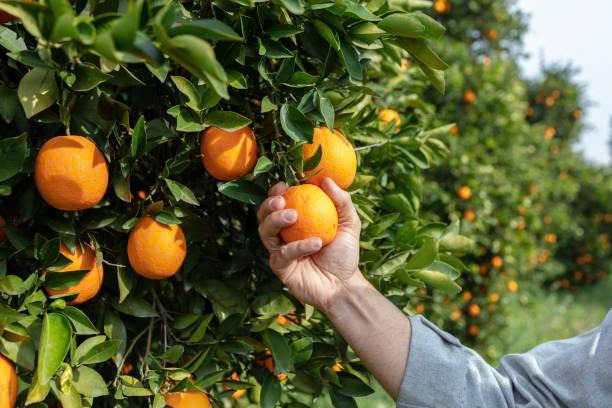pineapple: (31, 132, 117, 217), (290, 124, 366, 191), (197, 114, 259, 184), (125, 210, 186, 280)
